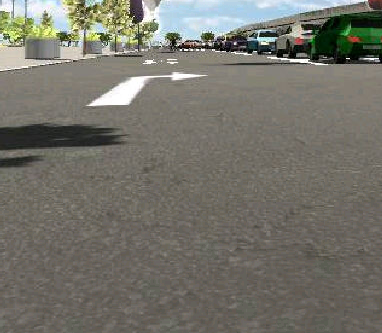ground_right: (117, 70, 208, 82)
